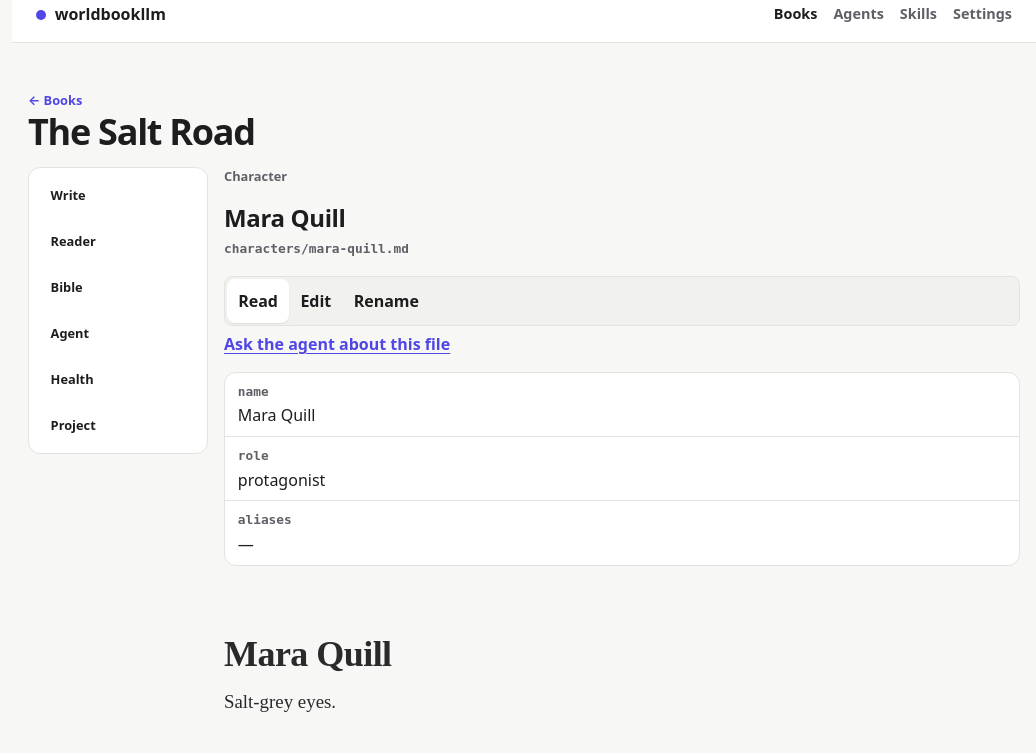
Test: book files › holds a rename until unsaved edits are saved or discarded
The width and height of the screenshot is (1036, 753).
Click the button "Edit".
click(316, 302)  # box [289, 280, 342, 324]
(page scrolled)
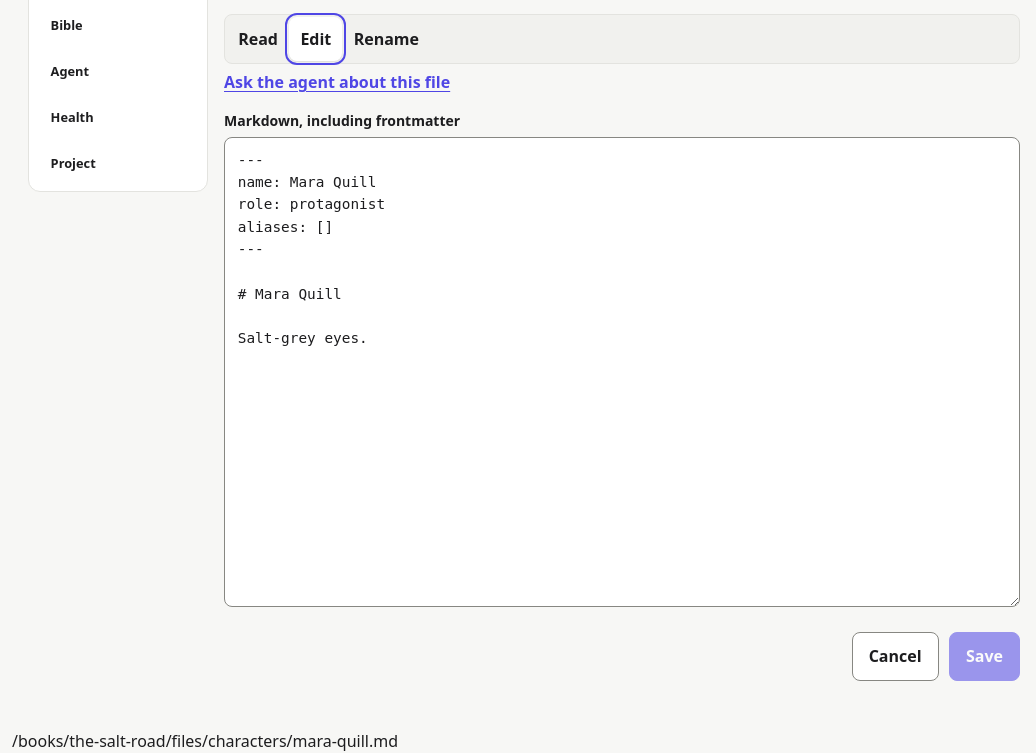
Type "Tall." into the text box labelled "Markdown, including frontmatter".
click(622, 372); type("Tall.")  # box [224, 137, 1020, 607]
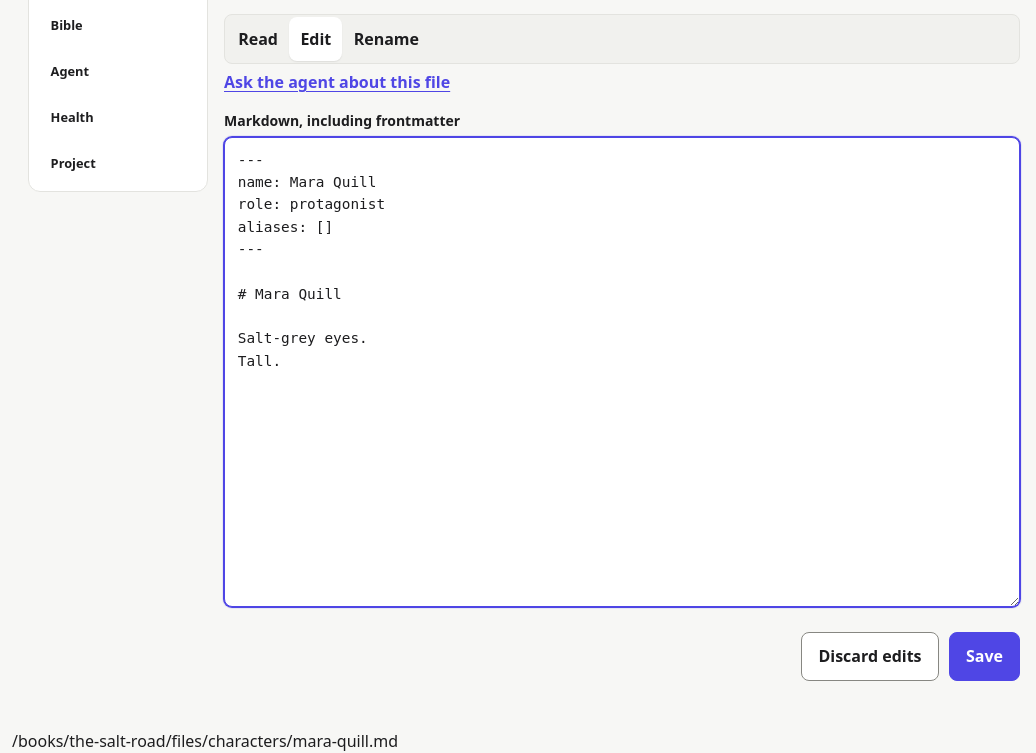
Click the button "Rename".
click(386, 40)  # box [342, 18, 430, 62]
(page scrolled)
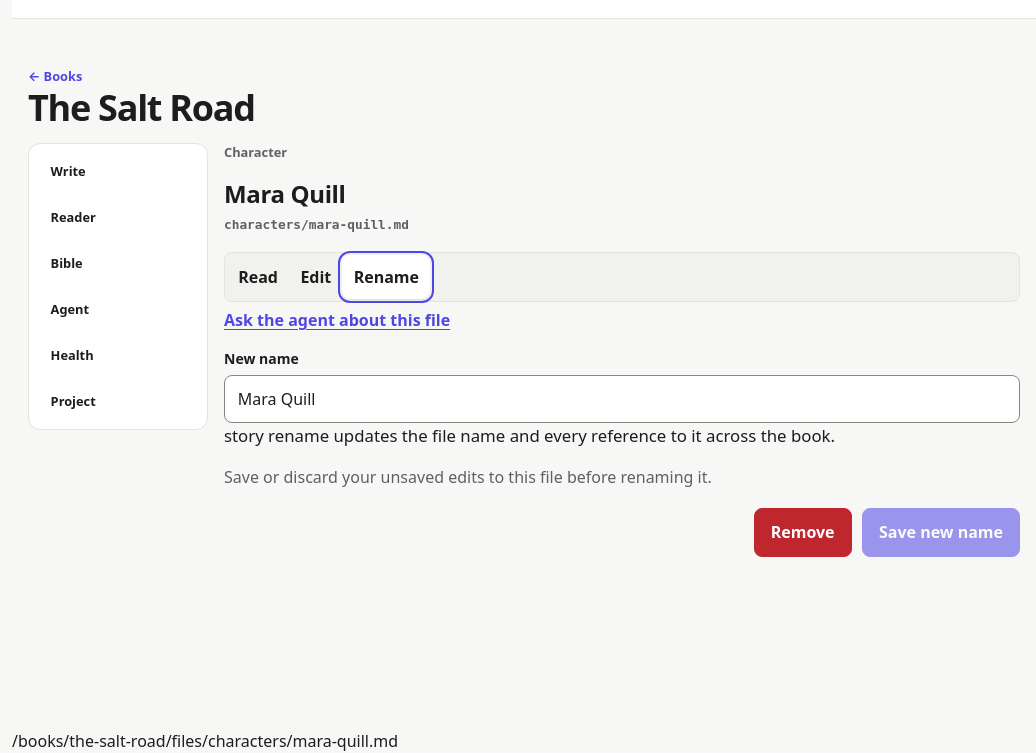
Expected: the text "Save or discard your unsaved edits to this file before renaming it." is shown, [224, 466, 712, 488]
Expected: the button "Save new name" is disabled, [862, 508, 1020, 557]
